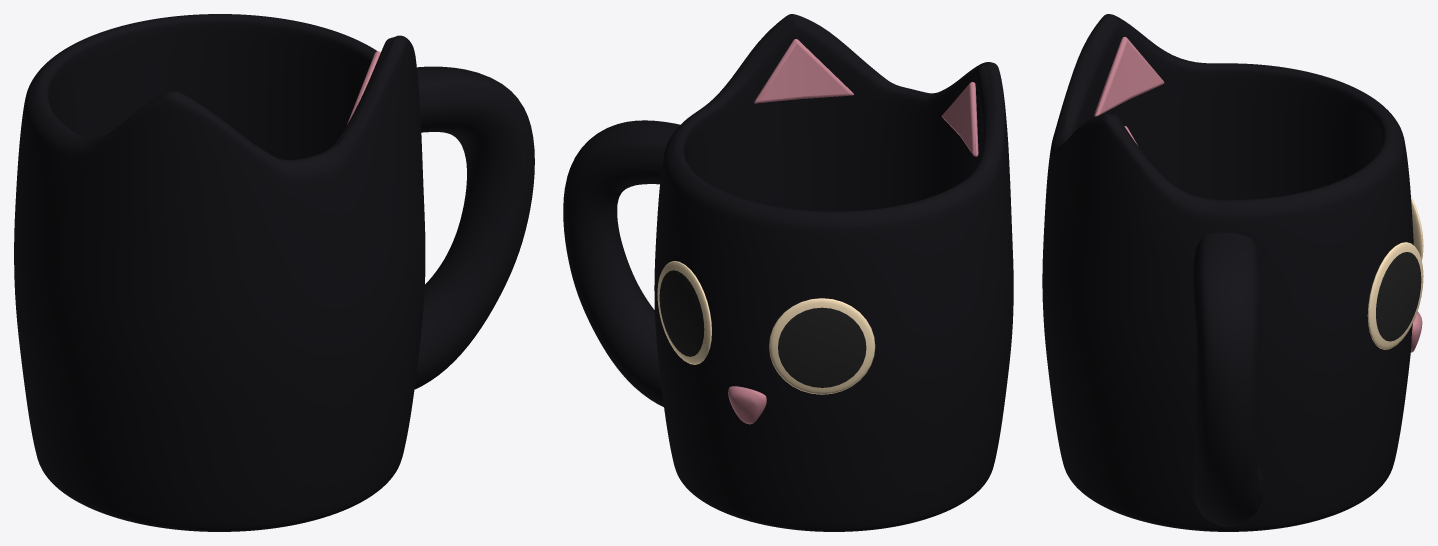
File: Room_Game_Kupa.fbx
The picture shows the model from 3 angles, left to right: view 1: azimuth 30°, elevation 25°; view 2: azimuth 150°, elevation 25°; view 3: azimuth 270°, elevation 25°; orthographic projection. The views are drawn at different scales.
Parts seen in each view (by area): view 1: Cylinder, Torus; view 2: Cylinder, Torus, Sphere, Plane, Cube; view 3: Cylinder, Torus, Sphere, Plane.
Part boxes in pixels (x1,y1,x2,y2): Cylinder: (14, 14, 425, 531); Torus: (414, 66, 534, 389); Cylinder: (654, 14, 1013, 531); Torus: (563, 120, 680, 406); Sphere: (657, 261, 875, 394); Plane: (754, 39, 978, 156); Cube: (728, 386, 766, 424); Cylinder: (1042, 14, 1413, 531); Torus: (1192, 232, 1263, 527); Sphere: (1367, 196, 1423, 349); Plane: (1094, 36, 1164, 145).
Size of the model in its own units: 13.95 by 12.16 by 10.48.
